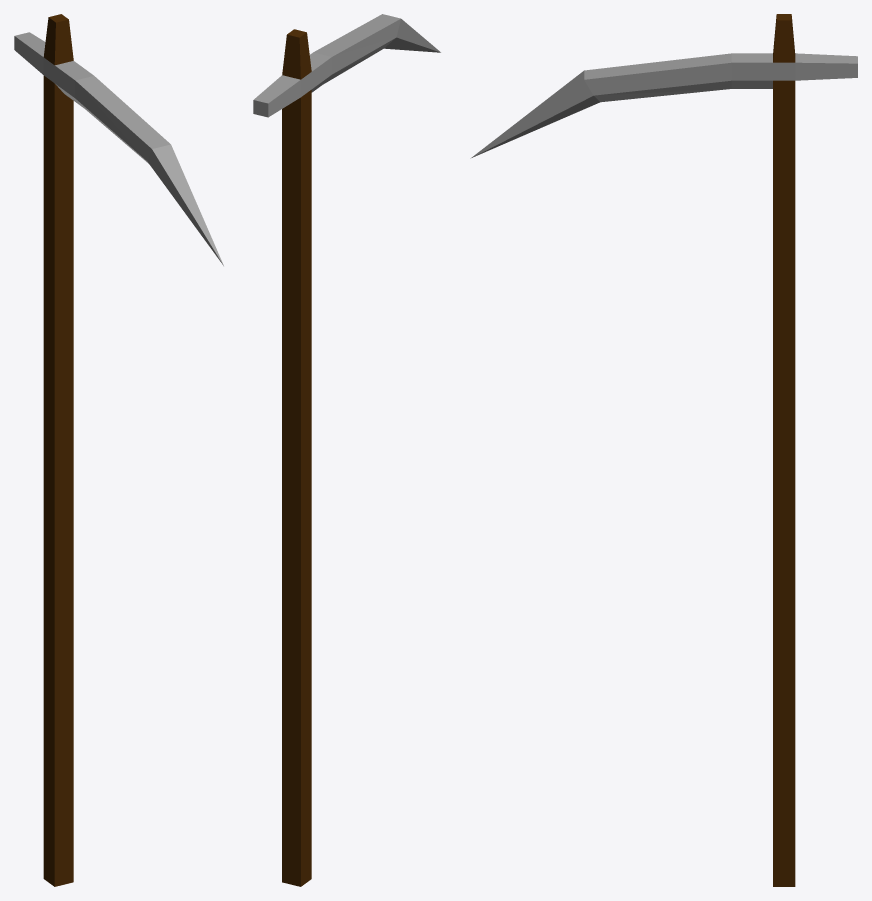
Rendered from Scythe.fbx.
3 views of the same model, side by side, from view 1: azimuth 30°, elevation 25°; view 2: azimuth 150°, elevation 25°; view 3: azimuth 270°, elevation 25° (orthographic). The views are drawn at different scales.
Visible parts, largest first — view 1: Scythe; view 2: Scythe; view 3: Scythe.
Boxes of the visible parts, x1=… form: Scythe: x1=14, y1=14, x2=223, y2=886; Scythe: x1=253, y1=14, x2=440, y2=886; Scythe: x1=470, y1=14, x2=857, y2=886.
Size of the model in its own units: 35 by 1298 by 527.
